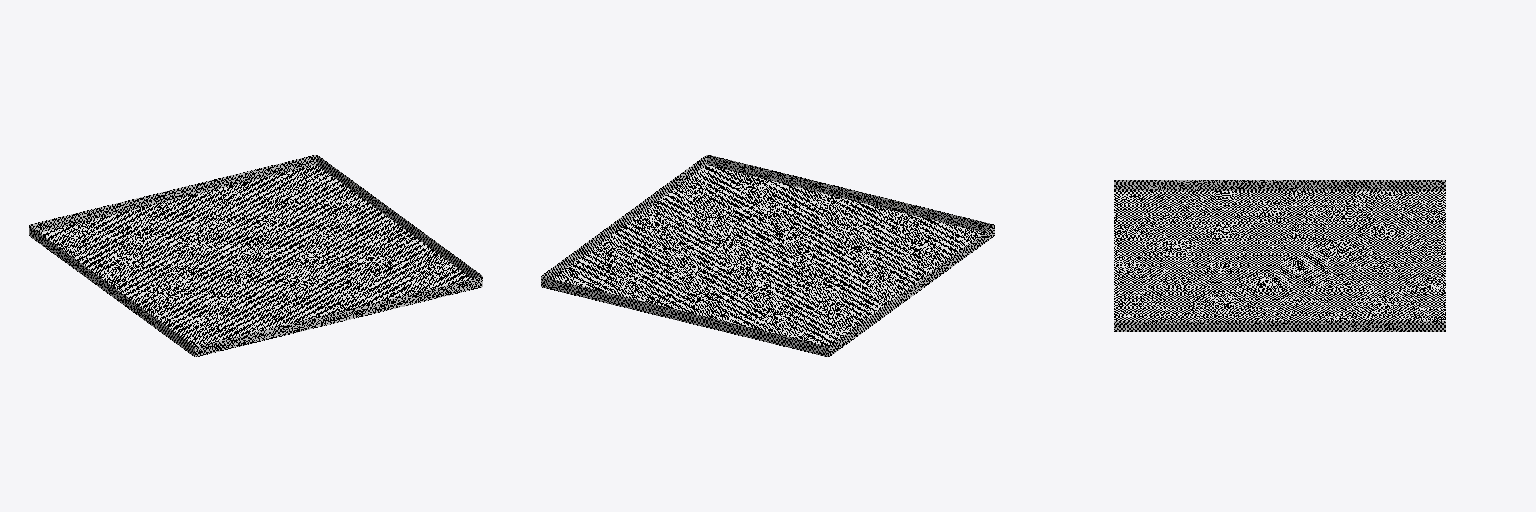
The picture shows the model from 3 angles: view 1: azimuth 30°, elevation 25°; view 2: azimuth 150°, elevation 25°; view 3: azimuth 270°, elevation 25°; orthographic projection.
Visible parts, largest first — view 1: Cube_Cube.001; view 2: Cube_Cube.001; view 3: Cube_Cube.001.
Part boxes in pixels (x1,y1,x2,y2): Cube_Cube.001: (29, 155, 482, 356); Cube_Cube.001: (541, 155, 994, 356); Cube_Cube.001: (1114, 180, 1445, 331).
Bounding box in the file's own units: 461 × 16.79 × 461.
Materials: 1 (1 with a texture image).